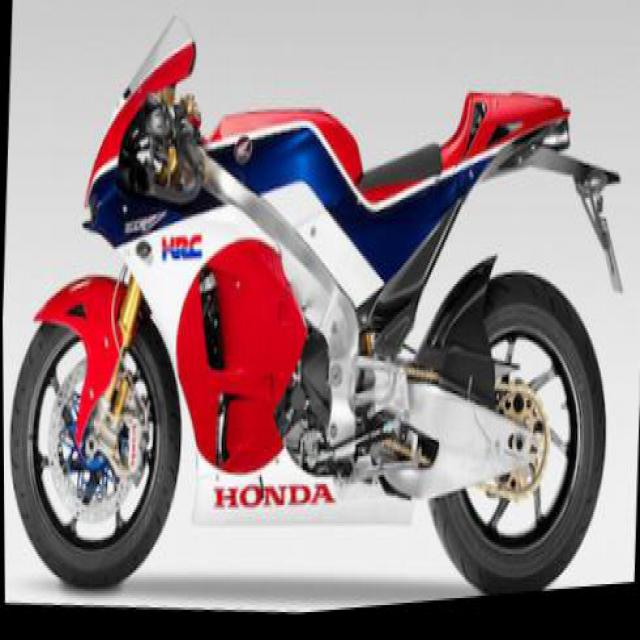HRC RCV 213: (0, 0, 625, 638)
